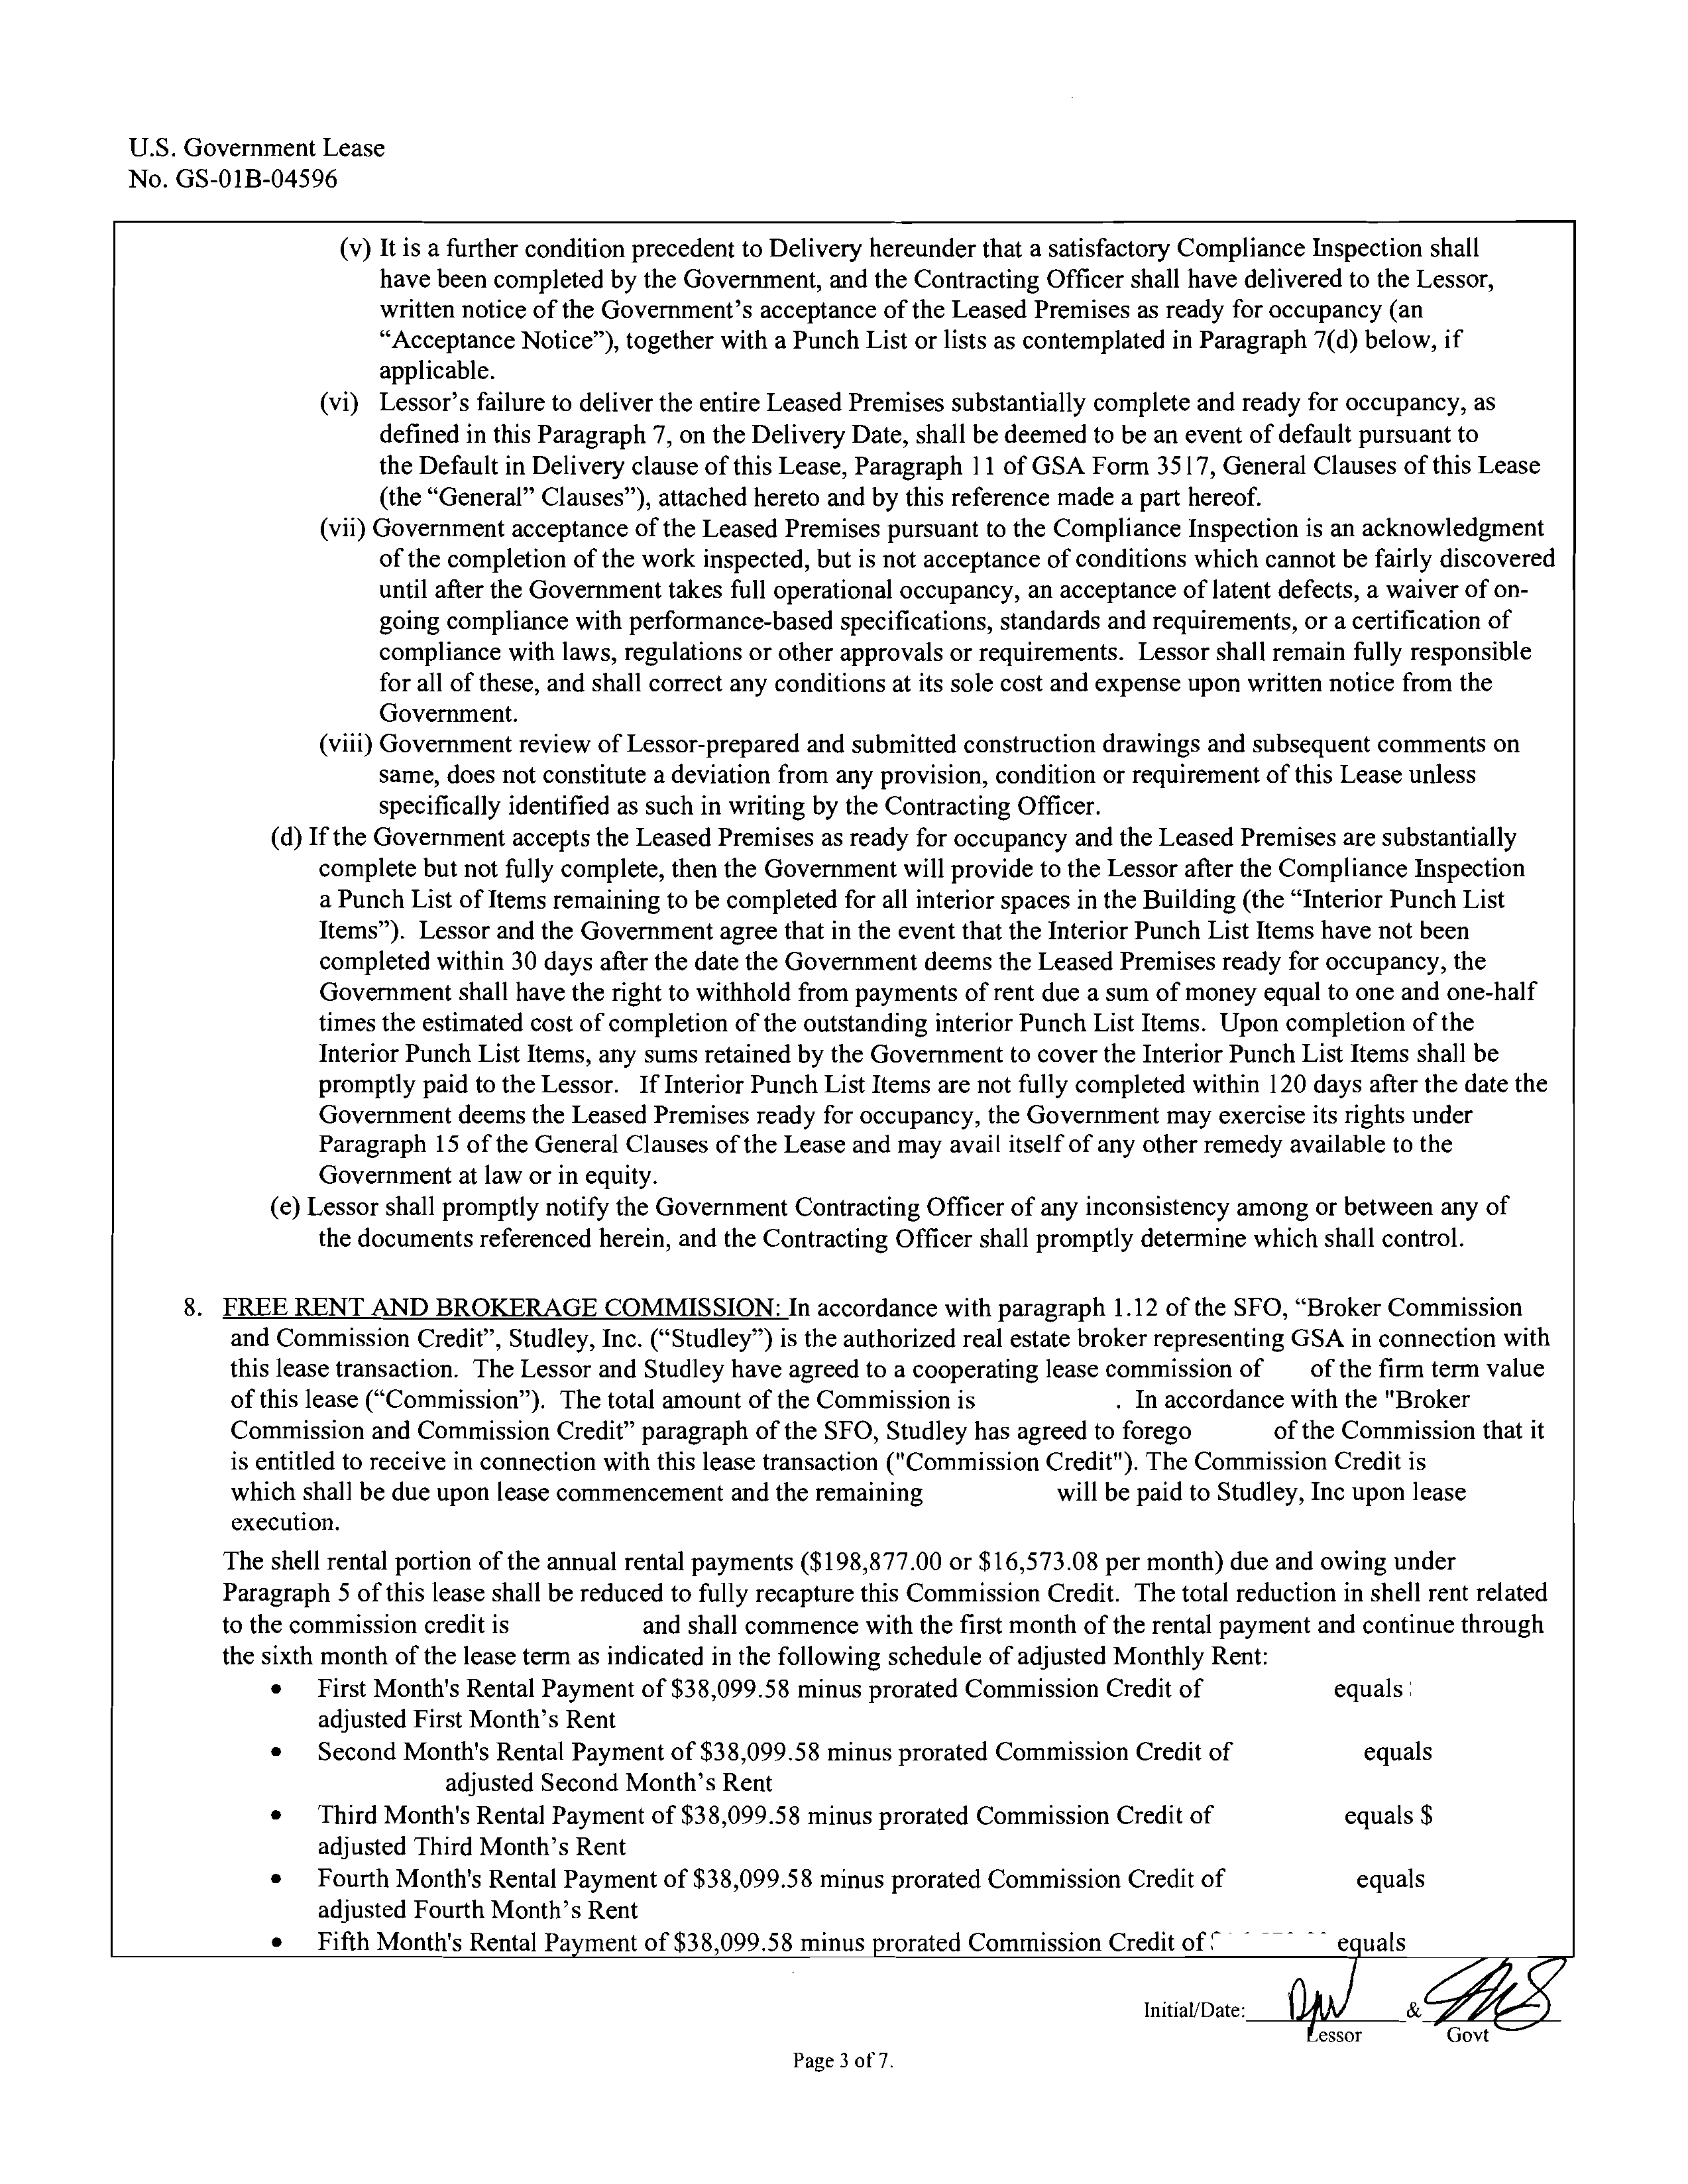handwritten: (1422, 1959, 1569, 2028), (1275, 1955, 1362, 2030)
